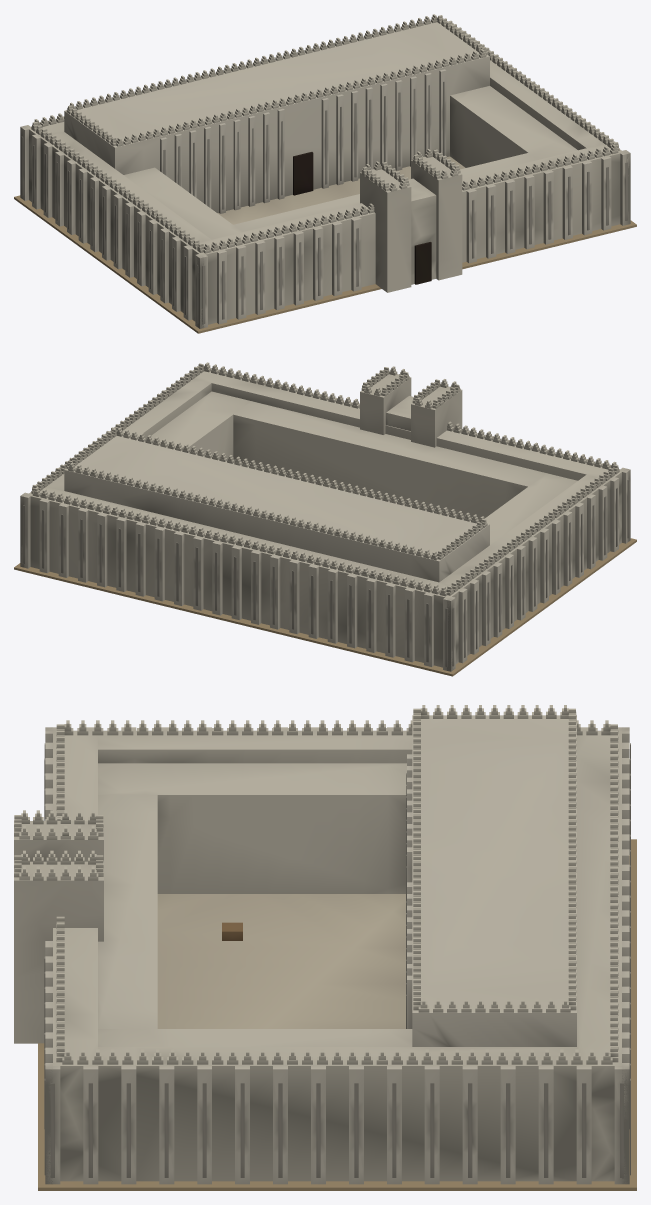
The model's file is emah.glb.
The picture shows the model from 3 angles, top to bottom: view 1: azimuth 30°, elevation 25°; view 2: azimuth 150°, elevation 25°; view 3: azimuth 270°, elevation 25°; orthographic projection. The views are drawn at different scales.
Parts seen in each view (by area): view 1: p1_court and cella, p0_walls, p2_gate towers; view 2: p0_walls, p1_court and cella, p2_gate towers; view 3: p1_court and cella, p0_walls, p2_gate towers.
Boxes of the visible parts, box(x1,y1,x2,y2) form: p1_court and cella: box(64, 22, 577, 239); p0_walls: box(14, 23, 636, 333); p2_gate towers: box(31, 14, 619, 292); p0_walls: box(14, 365, 636, 676); p1_court and cella: box(64, 391, 577, 582); p2_gate towers: box(31, 362, 619, 596); p1_court and cella: box(98, 715, 576, 1046); p0_walls: box(38, 727, 636, 1190); p2_gate towers: box(14, 705, 618, 1064).
Size of the model in its own units: 55 by 13.05 by 41.6.
